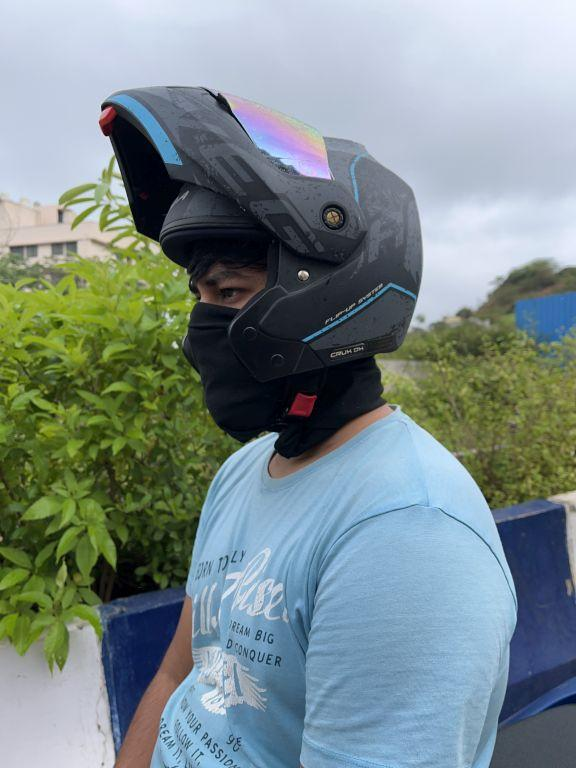helmet: (87, 77, 432, 425)
